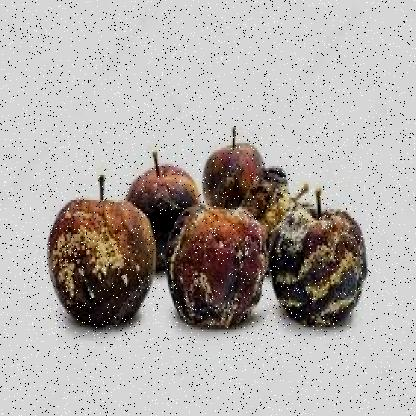damaged_apple: (46, 196, 156, 328), (165, 200, 268, 328), (269, 204, 366, 327), (121, 150, 201, 264), (202, 134, 264, 212)
